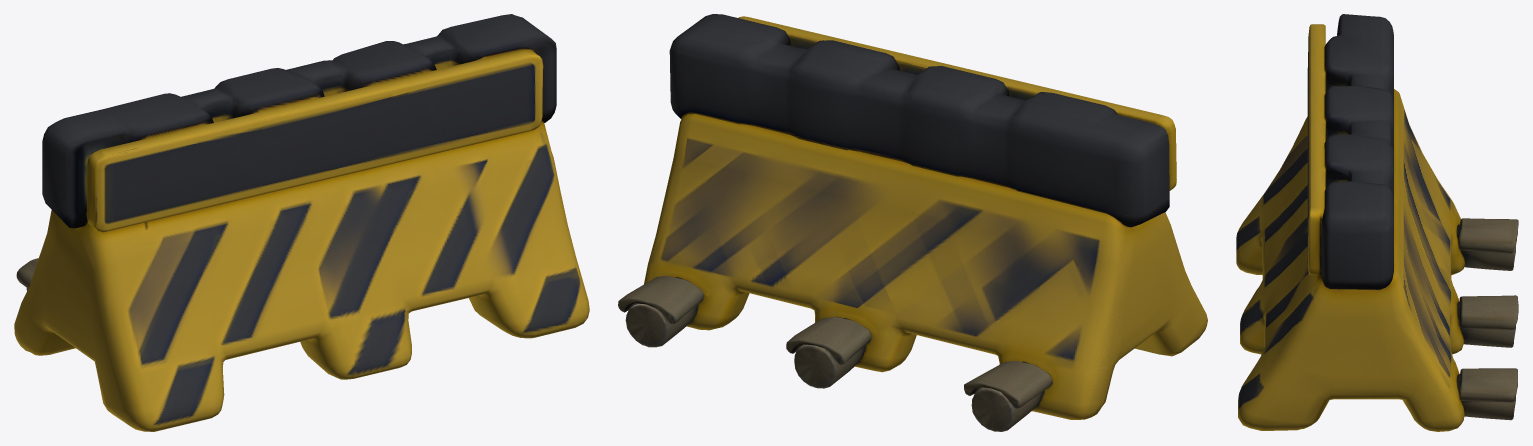
The model's file is prop_barrier.glb.
3 renders of one model, left to right at view 1: azimuth 30°, elevation 25°; view 2: azimuth 150°, elevation 25°; view 3: azimuth 270°, elevation 25°, orthographic. The views are drawn at different scales.
Visible parts, largest first — view 1: tripo_node_934cece4-eff7-4198-bf0a-c91e0c1b63ed; view 2: tripo_node_934cece4-eff7-4198-bf0a-c91e0c1b63ed; view 3: tripo_node_934cece4-eff7-4198-bf0a-c91e0c1b63ed.
Boxes of the visible parts, x1=… form: tripo_node_934cece4-eff7-4198-bf0a-c91e0c1b63ed: x1=14, y1=14, x2=589, y2=431; tripo_node_934cece4-eff7-4198-bf0a-c91e0c1b63ed: x1=618, y1=14, x2=1207, y2=431; tripo_node_934cece4-eff7-4198-bf0a-c91e0c1b63ed: x1=1236, y1=14, x2=1518, y2=431.
Bounding box in the file's own units: 0.998 × 0.5137 × 0.5801.
Materials: 1 (1 with a texture image).
